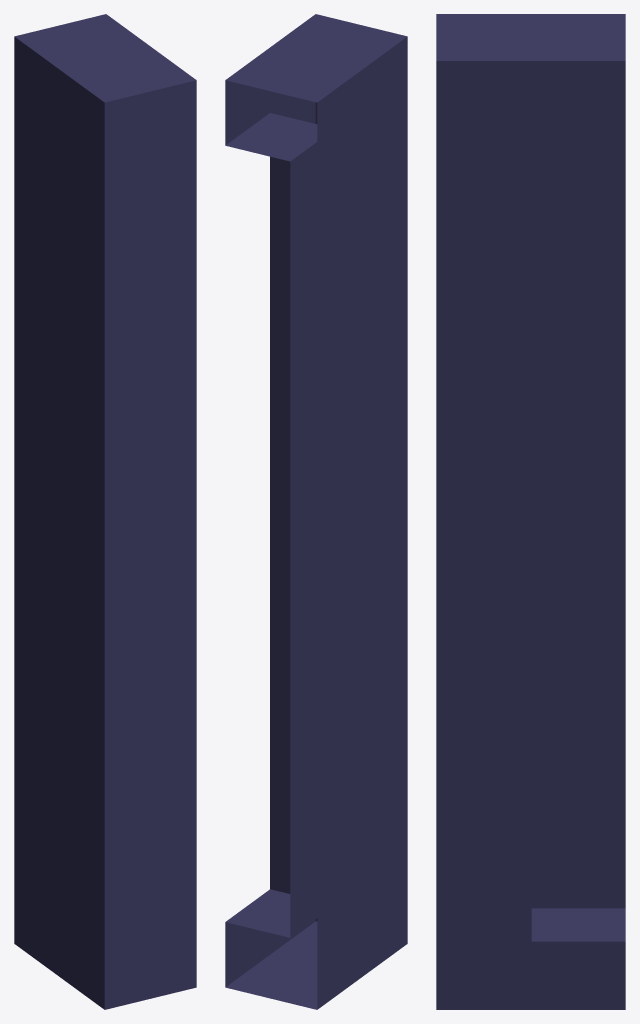
Rendered from Vitre1.fbx.
The picture shows the model from 3 angles, left to right: view 1: azimuth 30°, elevation 25°; view 2: azimuth 150°, elevation 25°; view 3: azimuth 270°, elevation 25°; orthographic projection. The views are drawn at different scales.
Parts seen in each view (by area): view 1: Cube.165; view 2: Cube.165; view 3: Cube.165.
Part boxes in pixels (x1=…): Cube.165: x1=14, y1=14, x2=196, y2=1009; Cube.165: x1=225, y1=14, x2=407, y2=1009; Cube.165: x1=436, y1=14, x2=625, y2=1009.
Bounding box in the file's own units: 46.67 × 440 × 79.54.
